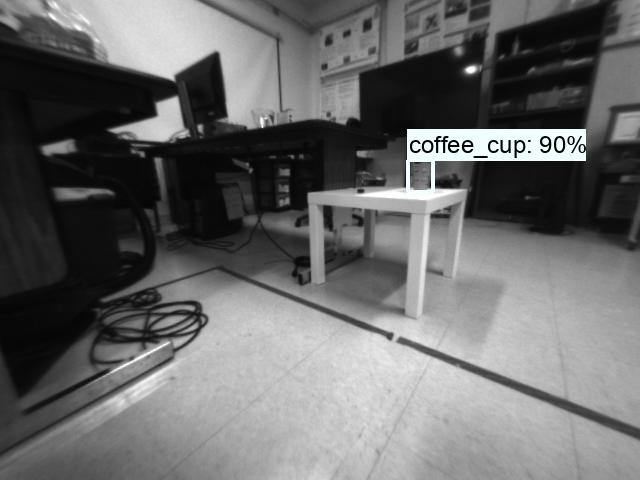coffee_cup: (408, 160, 434, 192)
